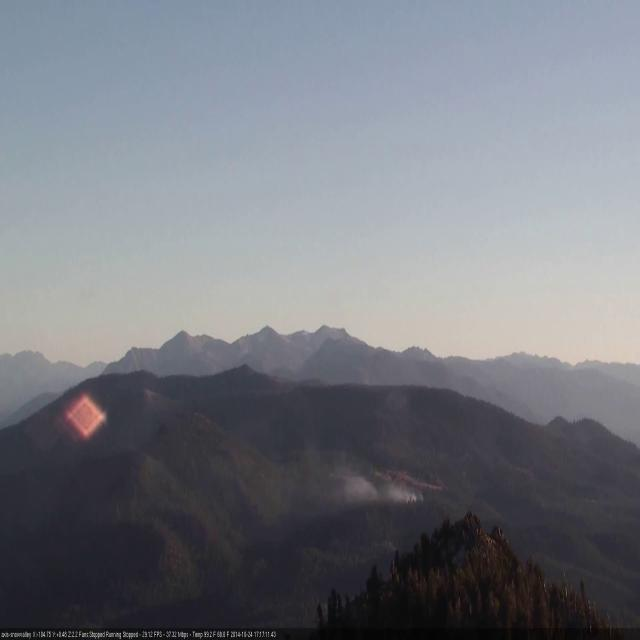smoke: (245, 428, 436, 508)
